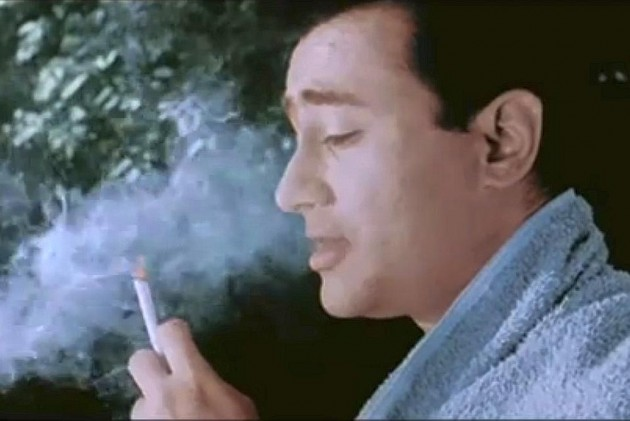cigarette: (117, 252, 168, 356)
